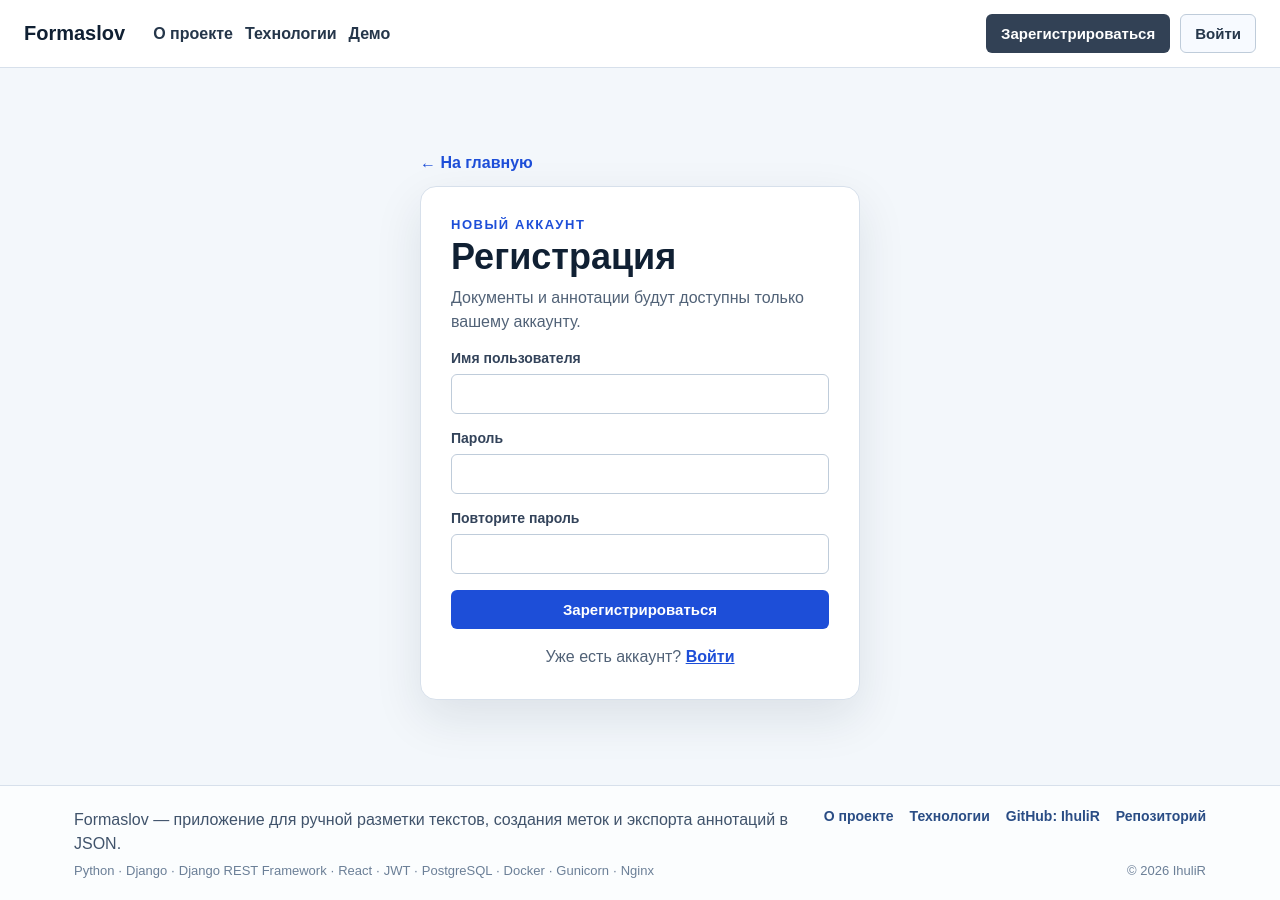
registration form rejects different passwords
Type "new-user" into the field labelled "Имя пользователя". click: (640, 394)
box: [451,374,829,414]
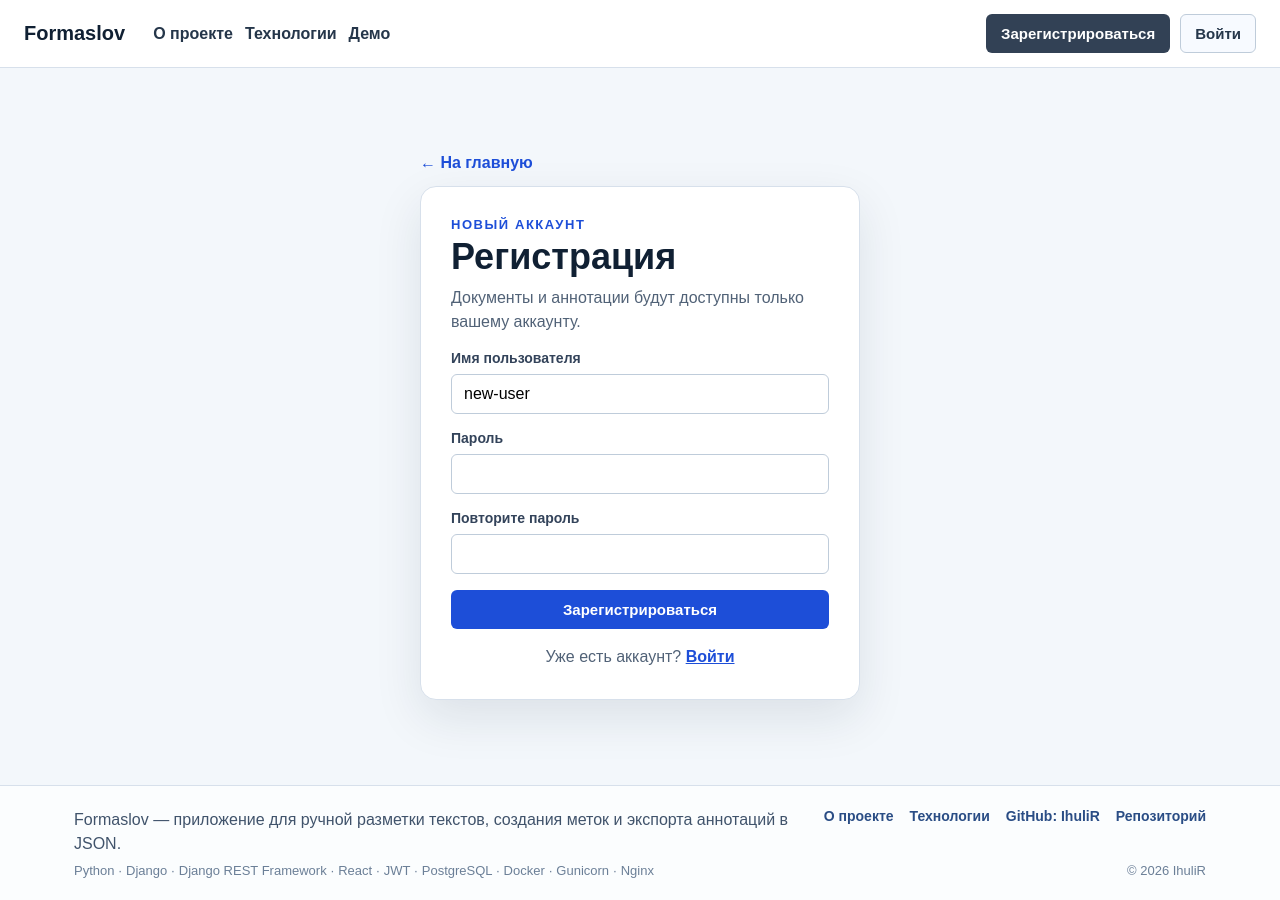
Type "first-password" into the password field labelled "Пароль". click: (640, 474)
box: [451,454,829,494]
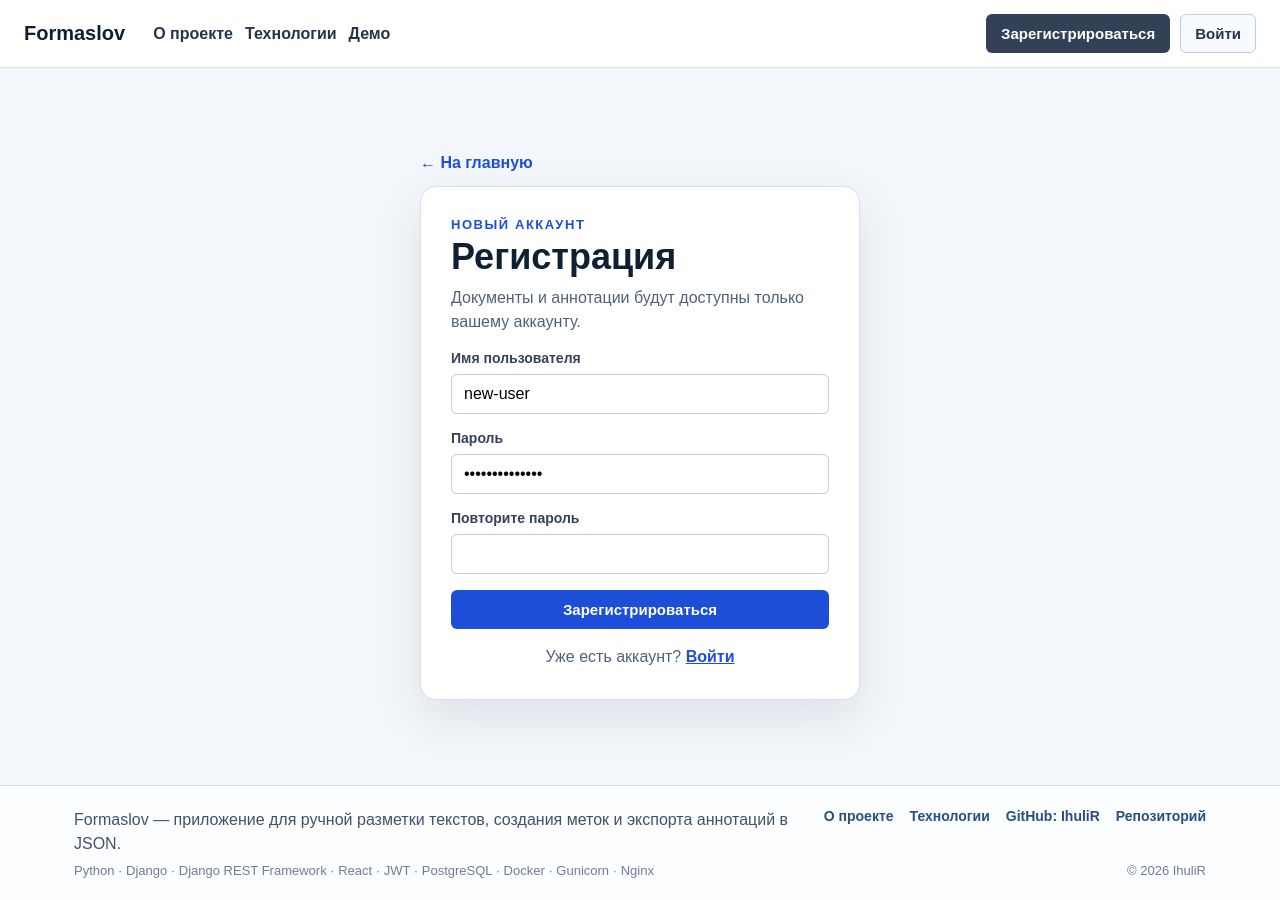
Type "second-password" into the password field labelled "Повторите пароль". click: (640, 554)
box: [451,534,829,574]
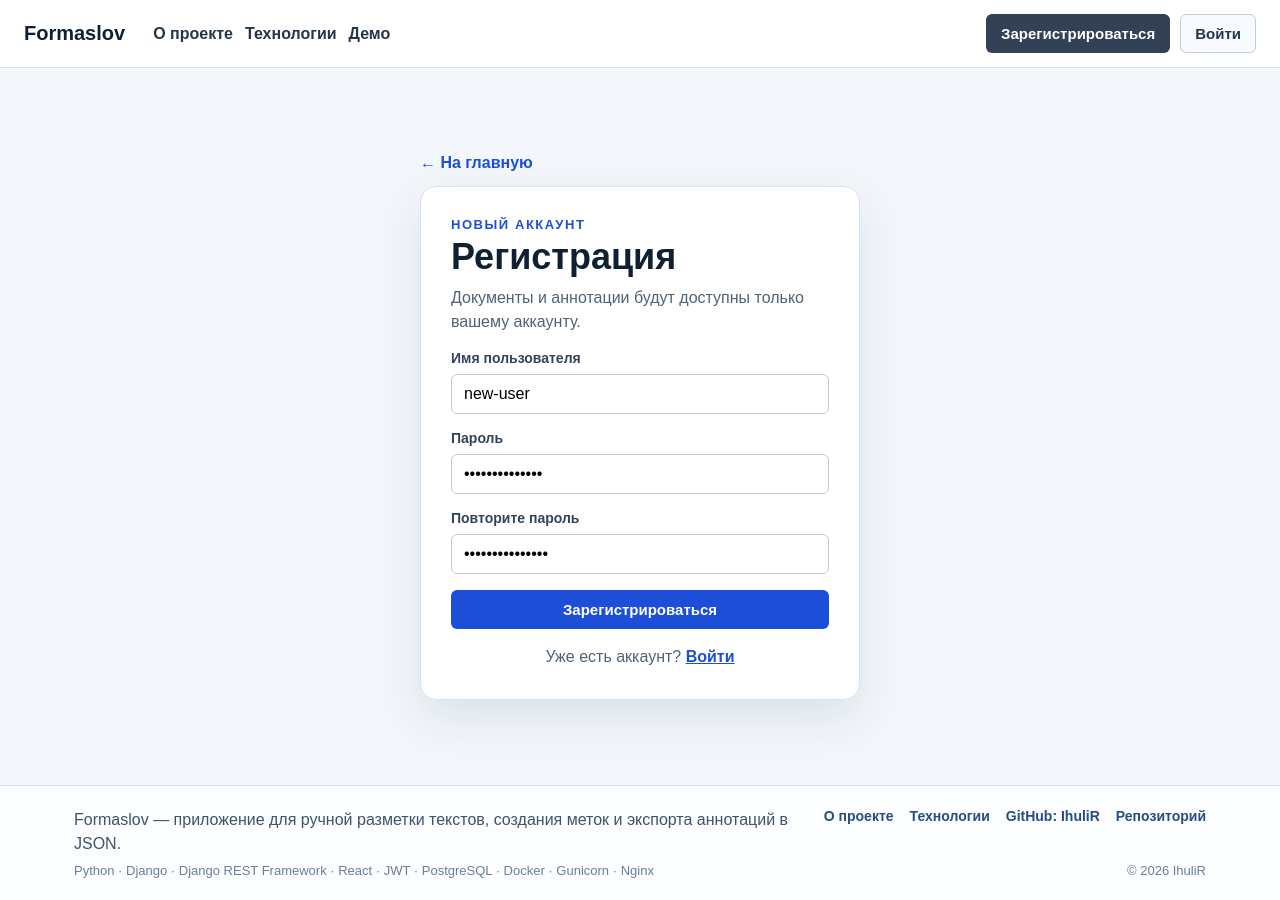
Click the button "Зарегистрироваться". click: (640, 609)
box: [451,590,829,628]
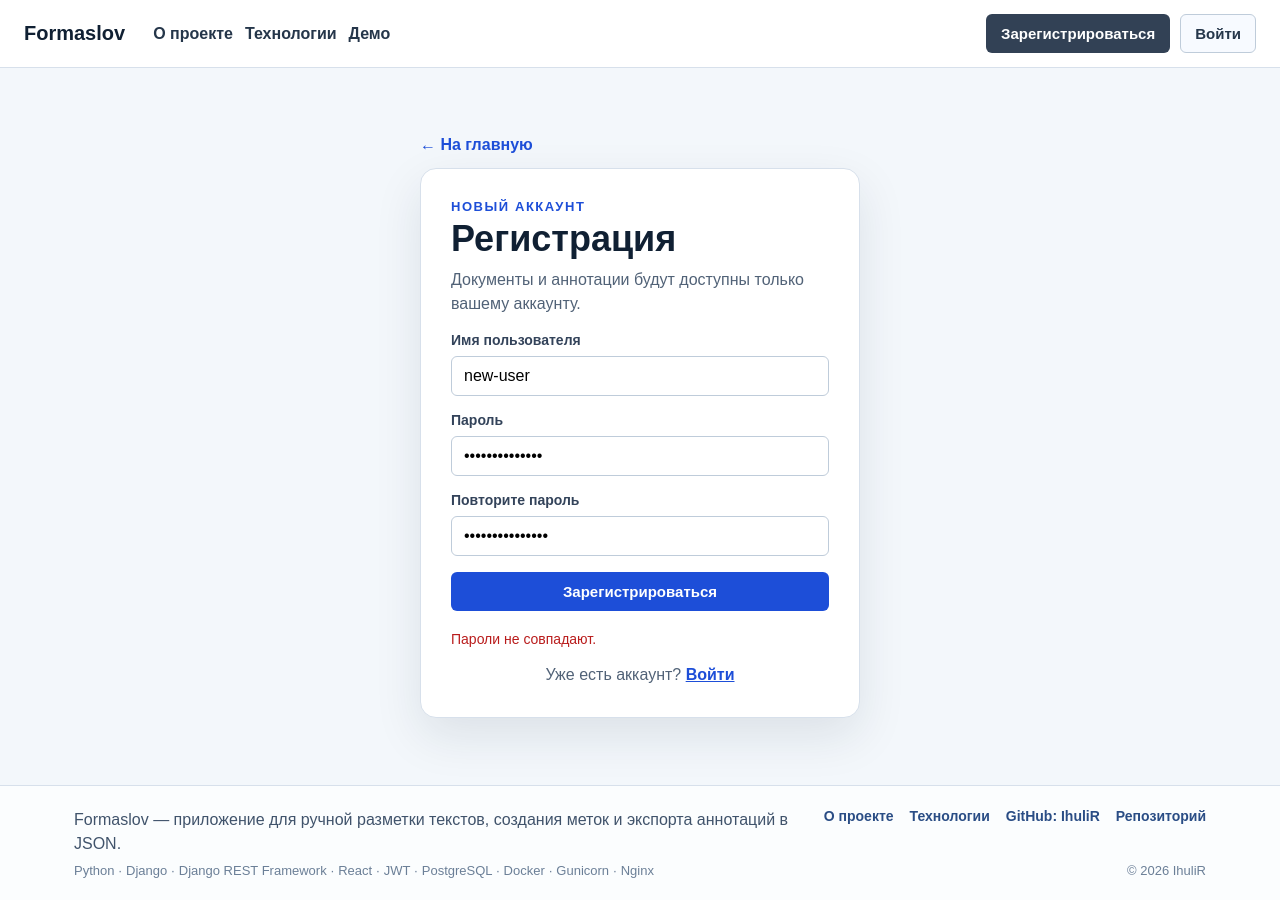
Check: the text "Пароли не совпадают." is shown, box [451,630,596,646]
